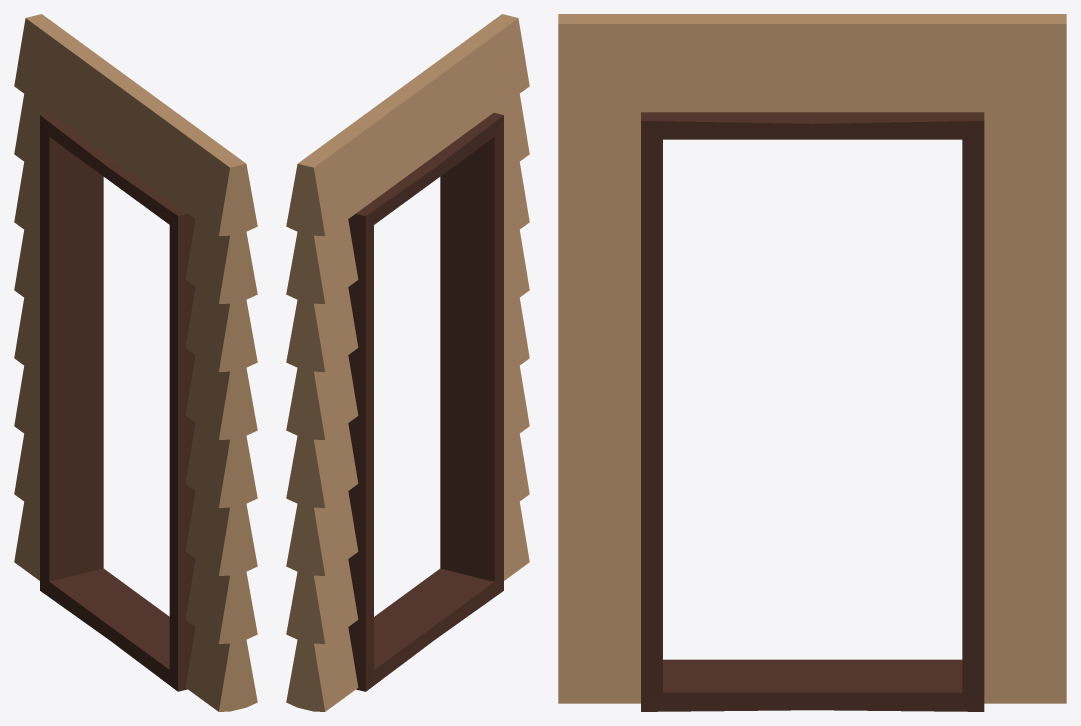
The model's file is Small Door A-col.glb.
The picture shows the model from 3 angles, left to right: view 1: azimuth 30°, elevation 25°; view 2: azimuth 150°, elevation 25°; view 3: azimuth 270°, elevation 25°; orthographic projection. The views are drawn at different scales.
Parts seen in each view (by area): view 1: Small Door A-col.001; view 2: Small Door A-col.001; view 3: Small Door A-col.001.
Boxes of the visible parts, box(x1,y1,x2,y2) form: Small Door A-col.001: box(14, 14, 257, 711); Small Door A-col.001: box(286, 14, 529, 711); Small Door A-col.001: box(558, 14, 1066, 711).
Bounding box in the file's own units: 0.2339 × 2.2 × 1.5.
